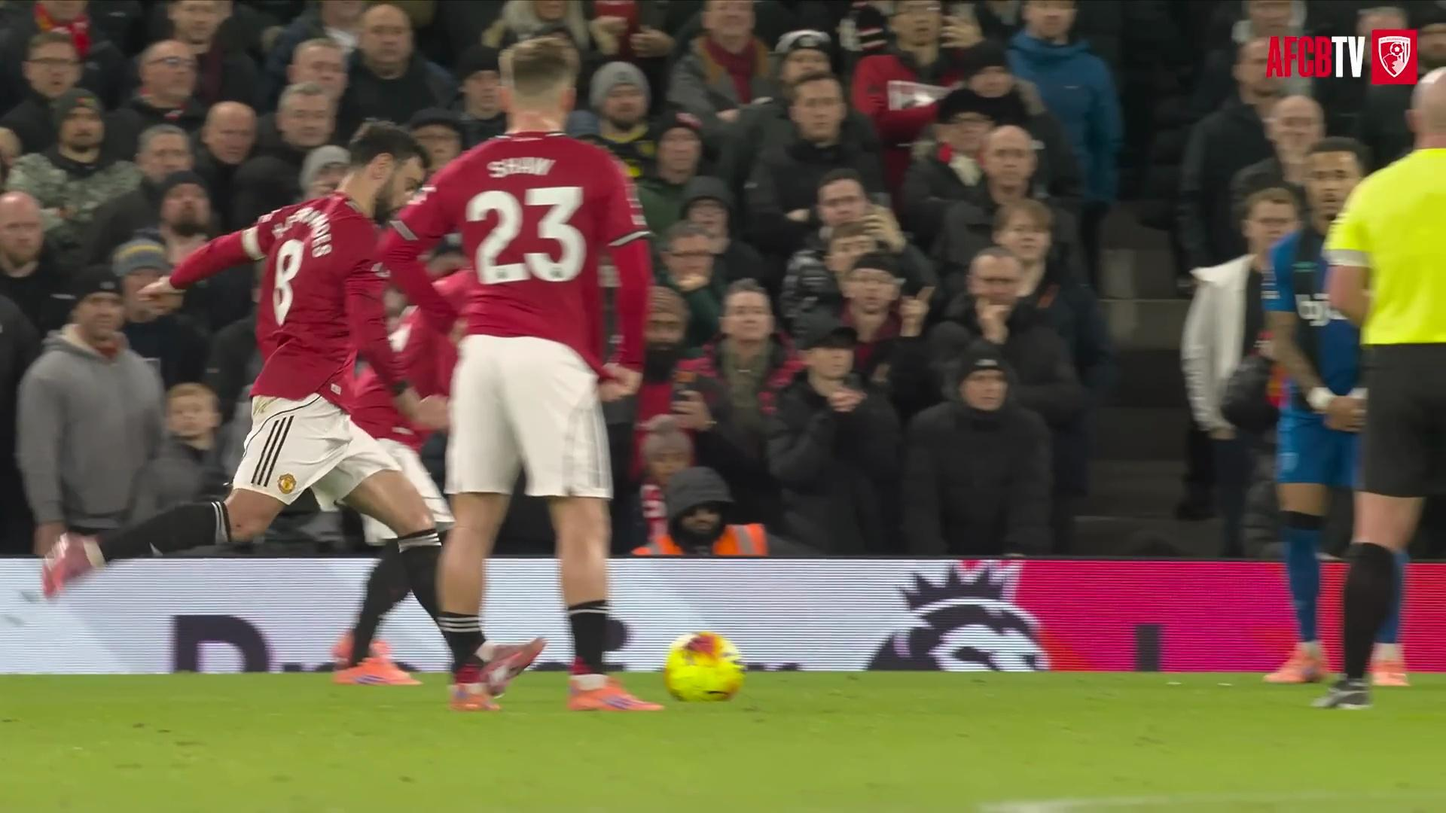football: (664, 632, 746, 701)
player: (42, 123, 446, 626), (379, 38, 659, 710), (1262, 138, 1367, 683), (333, 518, 419, 684)
referee: (1316, 69, 1445, 708)
